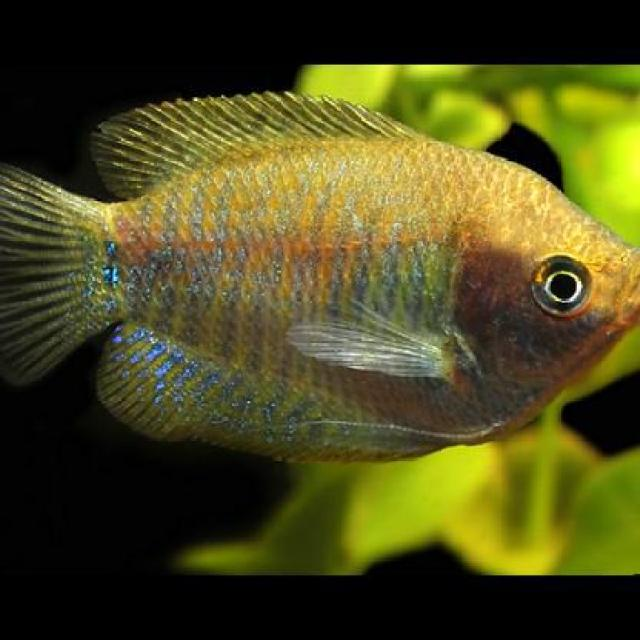Gourami: (0, 86, 638, 457)
